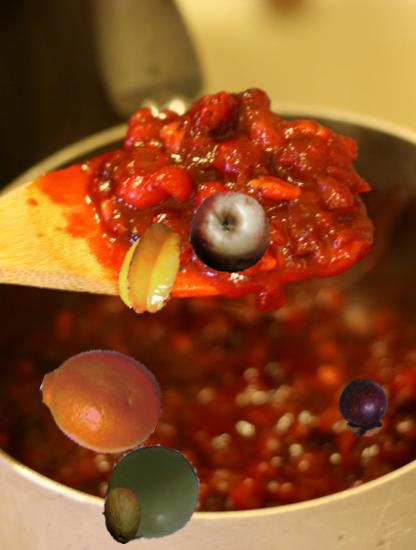Apple: (187, 190, 272, 275)
Carambula: (106, 222, 202, 318)
Grape: (102, 444, 204, 546)
Mangostan: (333, 379, 393, 439)
Papaya: (93, 487, 151, 545)
Tangelo: (40, 338, 163, 461)
